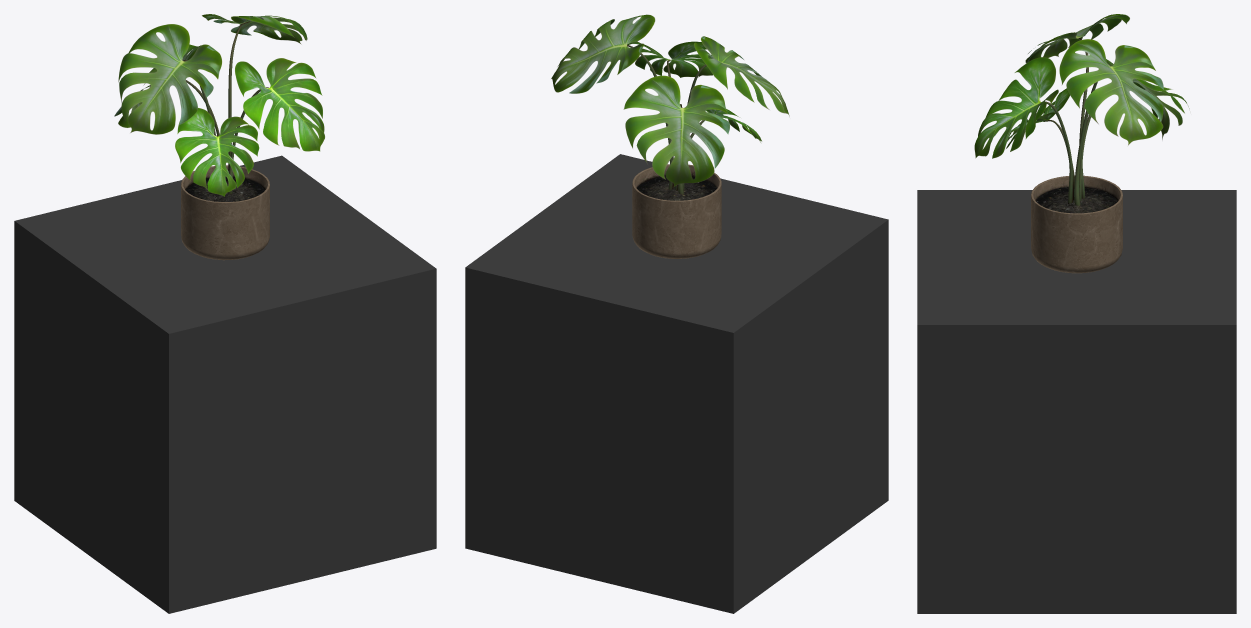
The model's file is monstera.glb.
3 renders of one model, left to right at view 1: azimuth 30°, elevation 25°; view 2: azimuth 150°, elevation 25°; view 3: azimuth 270°, elevation 25°, orthographic. The views are drawn at different scales.
Parts seen in each view (by area): view 1: Cube, SM_MZRa_Monstera_B02; view 2: Cube, SM_MZRa_Monstera_B02; view 3: Cube, SM_MZRa_Monstera_B02.
Part boxes in pixels (bbox=[...]): Cube: bbox=[14, 155, 436, 613]; SM_MZRa_Monstera_B02: bbox=[114, 14, 324, 260]; Cube: bbox=[465, 154, 888, 613]; SM_MZRa_Monstera_B02: bbox=[551, 14, 789, 258]; Cube: bbox=[917, 190, 1236, 613]; SM_MZRa_Monstera_B02: bbox=[974, 14, 1189, 273].
Bounding box in the file's own units: 2 × 3.58 × 2.
3 materials, 2 textured.
